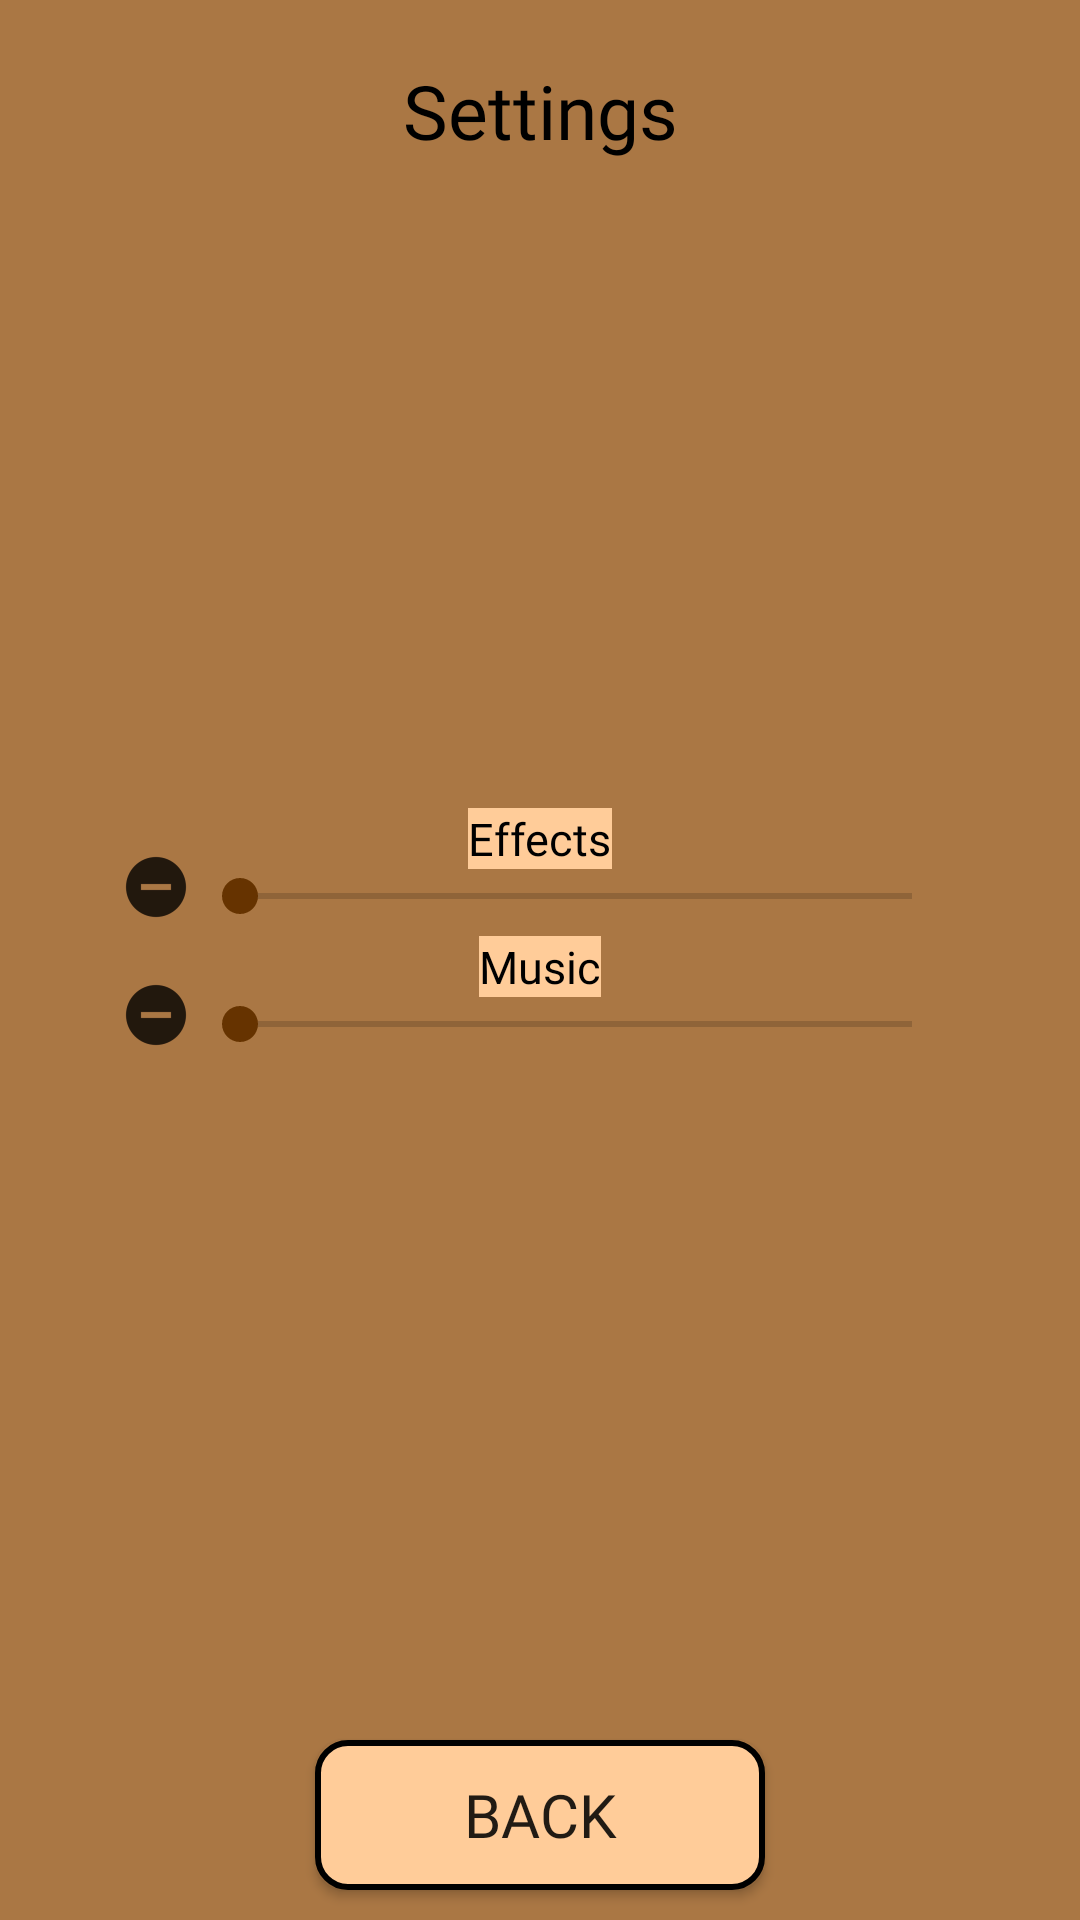

Screen size 1080*1920. Icon name, then its center in pixels as (x,y):
minus: (156,887), (156,1015)
